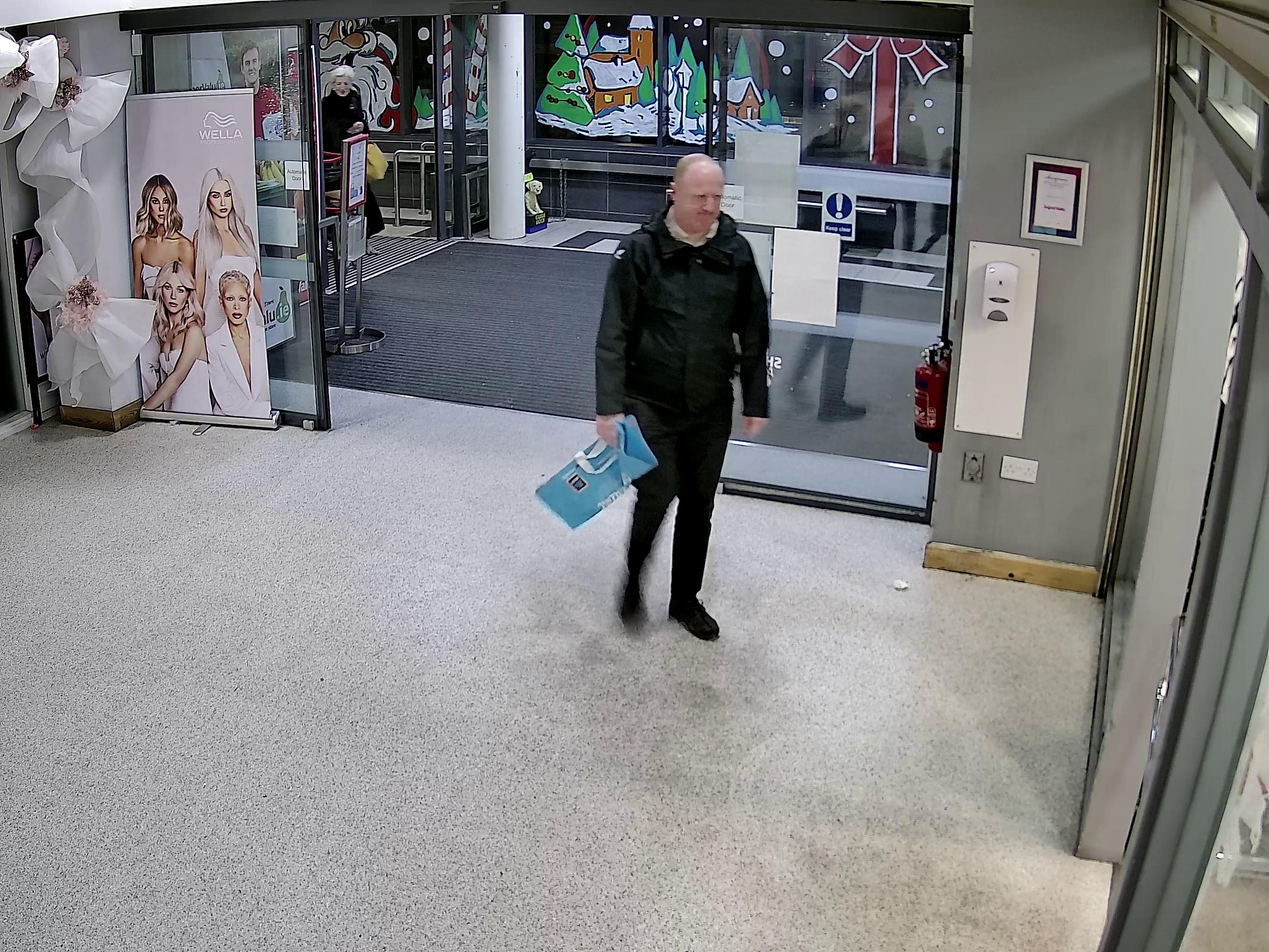empty-shopping-bags: (535, 415, 658, 531)
person: (594, 151, 772, 639)
person-with-empty-shopping-bag-s-: (534, 150, 771, 639)
